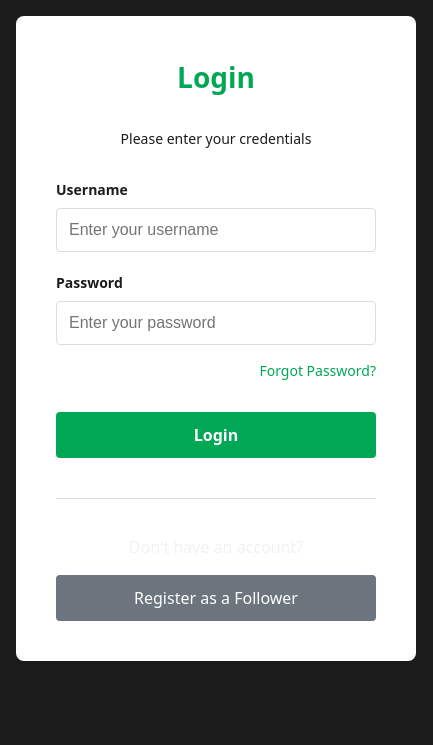
Scenario: Login › should clear error message when user types
Type "wronguser" into the field labelled "Username" at (216, 230), box [56,208,376,252]
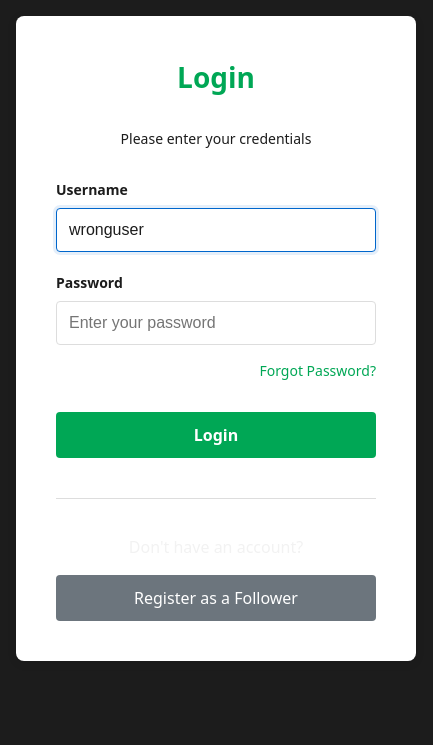
Type "wrongpass" into the password field labelled "Password" at (216, 323), box [56,301,376,345]
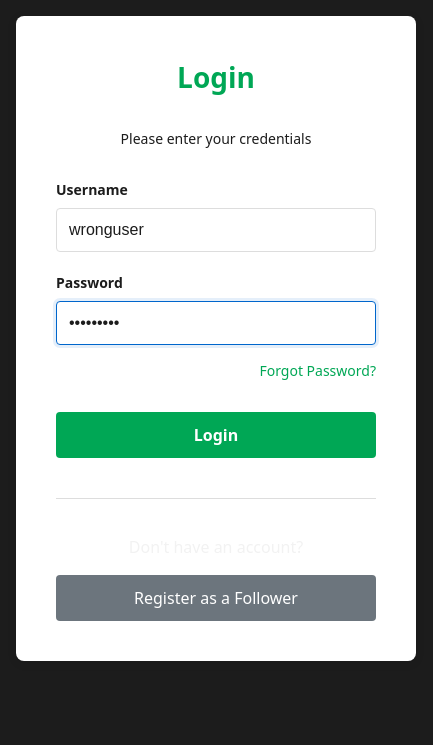
Click the button "Login" at (216, 435), box [56,412,376,458]
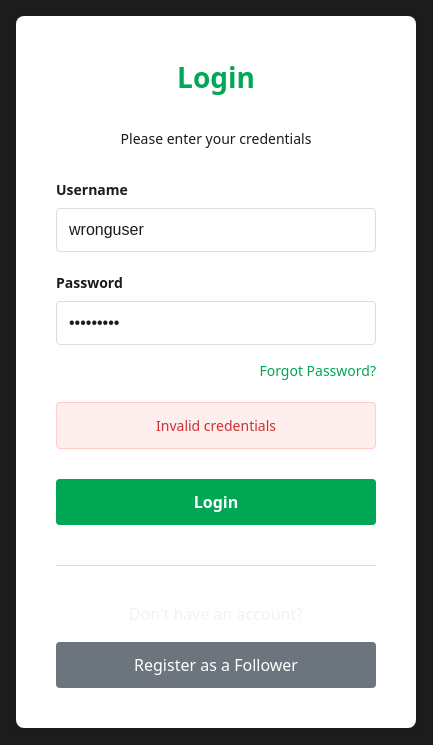
Now the text "Invalid credentials" is shown, box [56,402,376,449]
Type "a" into the field labelled "Username" at (216, 230), box [56,208,376,252]
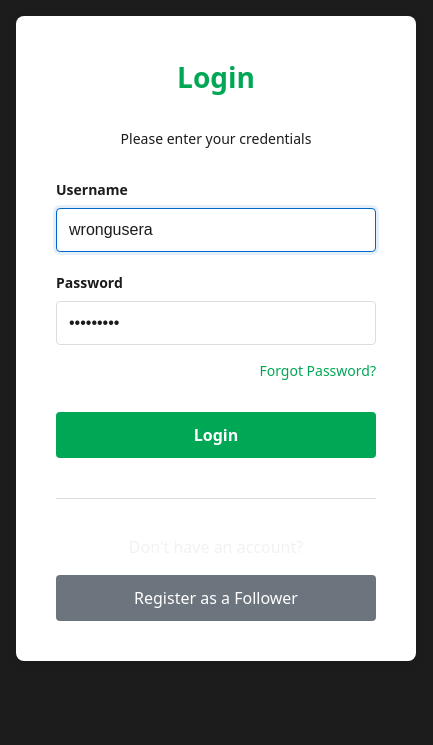
Now the text "Invalid credentials" is gone
